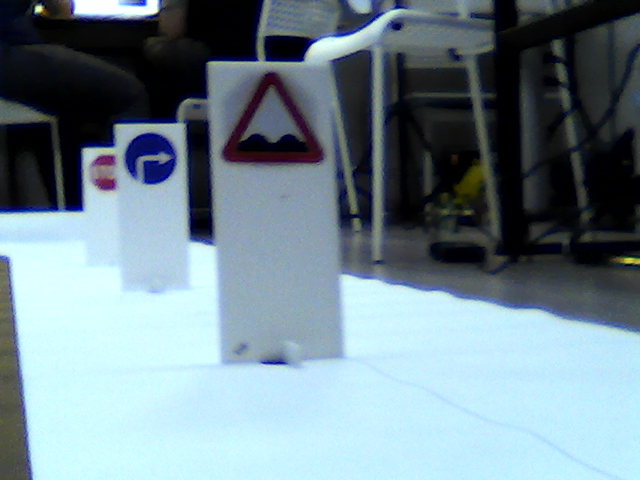Nerov: (223, 70, 321, 165)
Right: (124, 136, 181, 187)
Stop: (90, 154, 119, 189)
